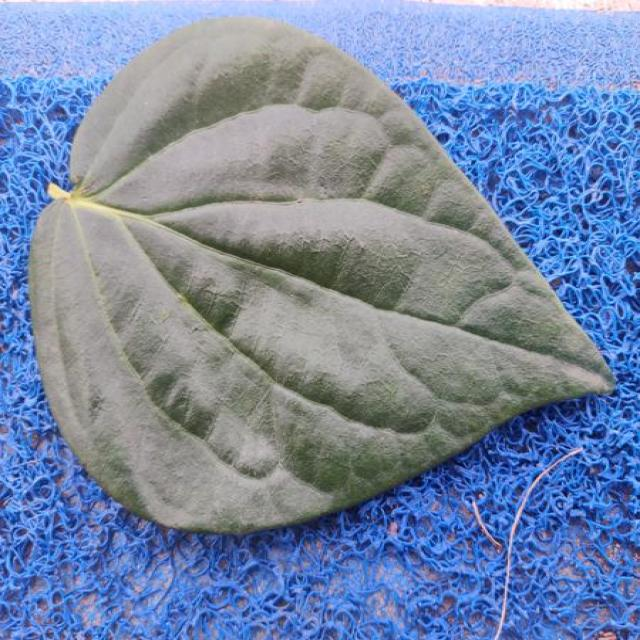betel: (30, 18, 613, 532)
defected betel: (123, 200, 510, 464)
